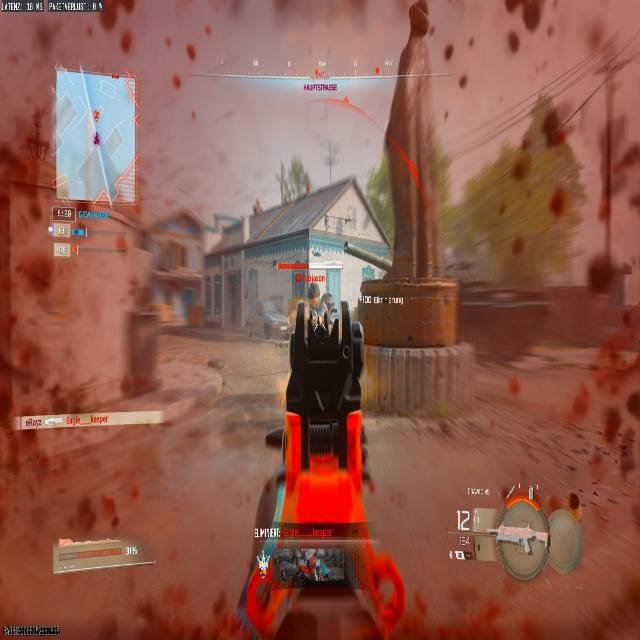head: (307, 284, 321, 300)
player: (288, 283, 334, 336), (318, 288, 337, 335)
